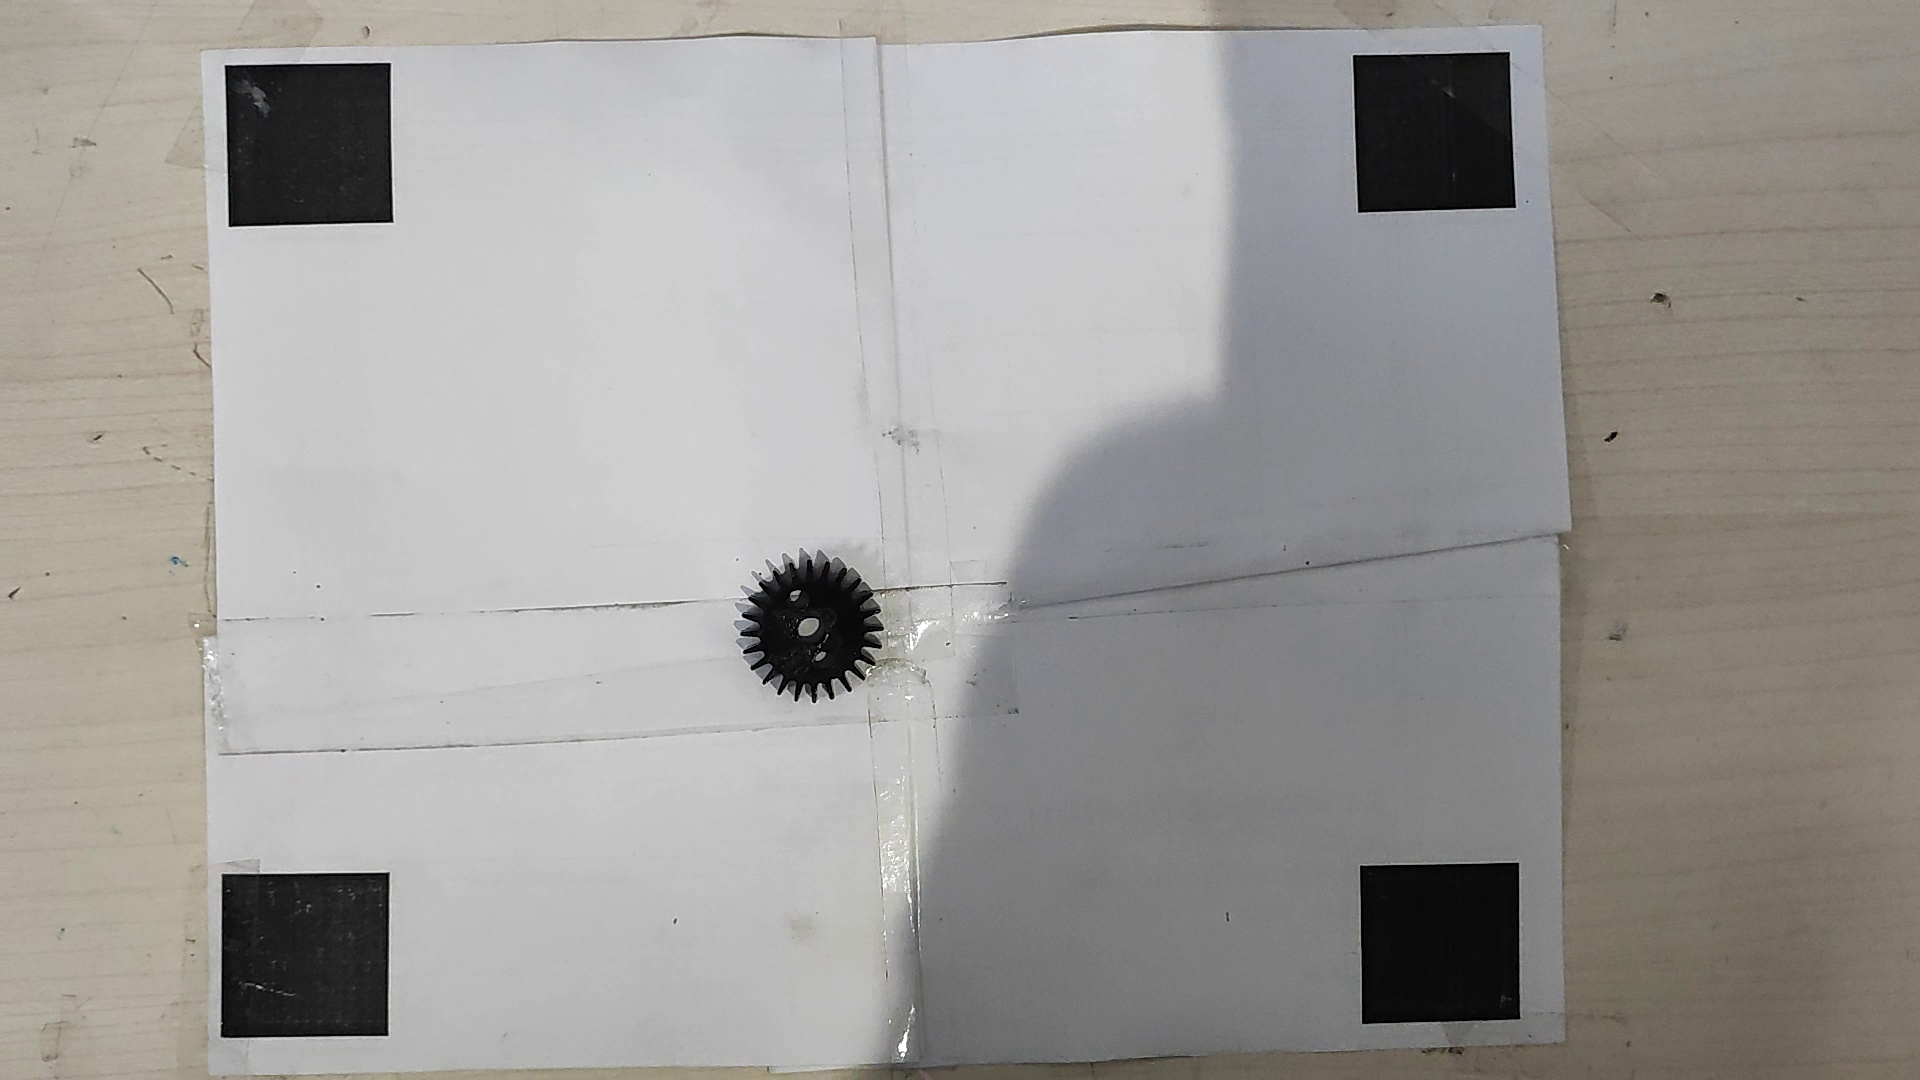Gear: (735, 556, 887, 705)
